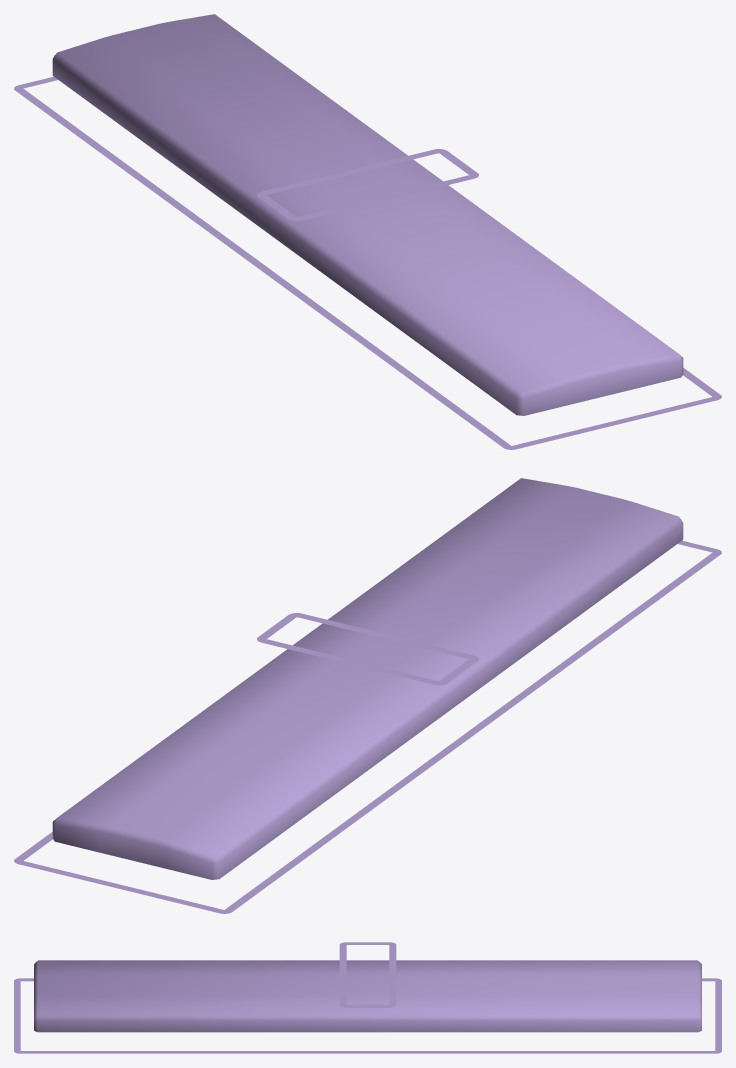
Rendered from HoloSliderValue.fbx.
3 renders of one model, top to bottom at view 1: azimuth 30°, elevation 25°; view 2: azimuth 150°, elevation 25°; view 3: azimuth 270°, elevation 25°, orthographic. The views are drawn at different scales.
Visible parts, largest first — view 1: HoloUI.001, HoloSlider.001; view 2: HoloUI.001, HoloSlider.001; view 3: HoloUI.001, HoloSlider.001.
Part boxes in pixels (x1,y1,x2,y2): HoloUI.001: (14, 14, 721, 449); HoloSlider.001: (257, 149, 478, 221); HoloUI.001: (14, 478, 721, 913); HoloSlider.001: (257, 613, 478, 685); HoloUI.001: (14, 960, 721, 1053); HoloSlider.001: (339, 942, 396, 1007).
Bounding box in the file's own units: 0.0925 × 0.0234 × 0.3669.
